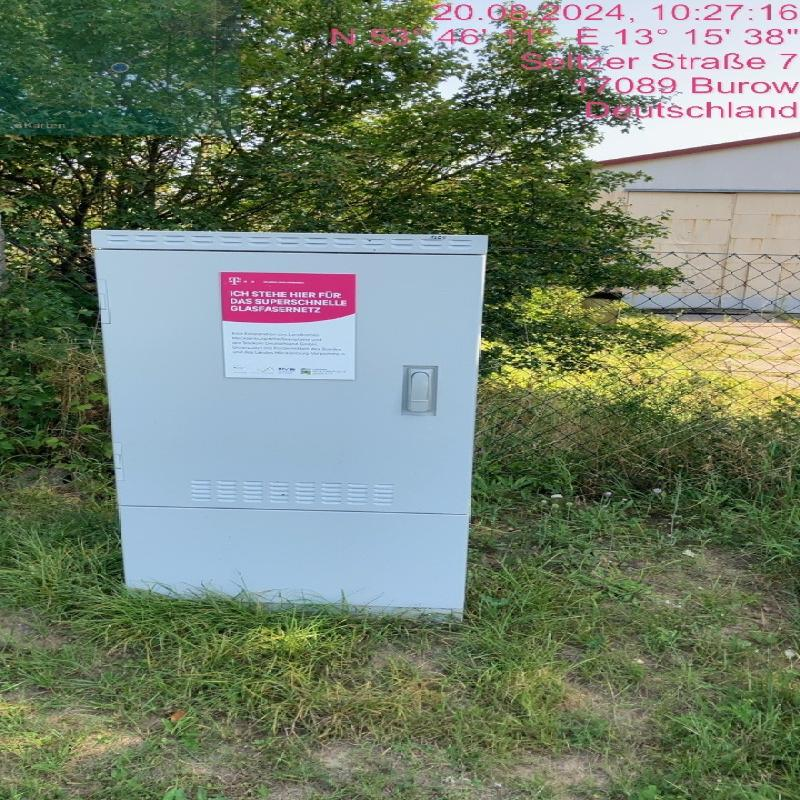NT-Gehause: (91, 230, 483, 614)
Steaker: (217, 270, 357, 378)
